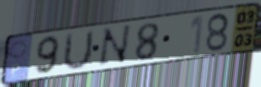1: (187, 13, 205, 57)
8: (134, 21, 162, 63), (205, 11, 230, 53)
9: (33, 34, 62, 76)
N: (95, 23, 133, 69)
U: (60, 28, 96, 73)
